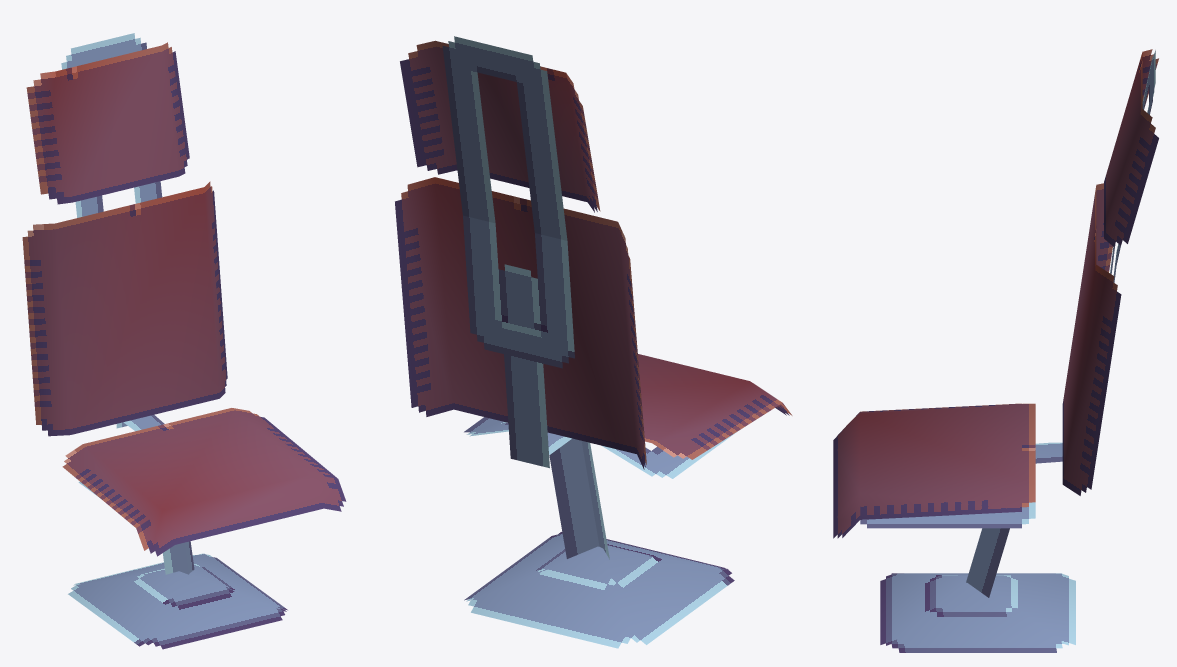
Rendered from seat.gltf.
3 views of the same model, side by side, from view 1: azimuth 30°, elevation 25°; view 2: azimuth 150°, elevation 25°; view 3: azimuth 270°, elevation 25° (orthographic). The views are drawn at different scales.
Visible parts, largest first — view 1: seat; view 2: seat; view 3: seat.
Boxes of the visible parts, x1,y1,x2,y2 form: seat: [22, 33, 346, 649]; seat: [395, 36, 792, 648]; seat: [833, 49, 1158, 652].
Bounding box in the file's own units: 0.625 × 1.42 × 0.7632.
Materials: 1 (1 with a texture image).
